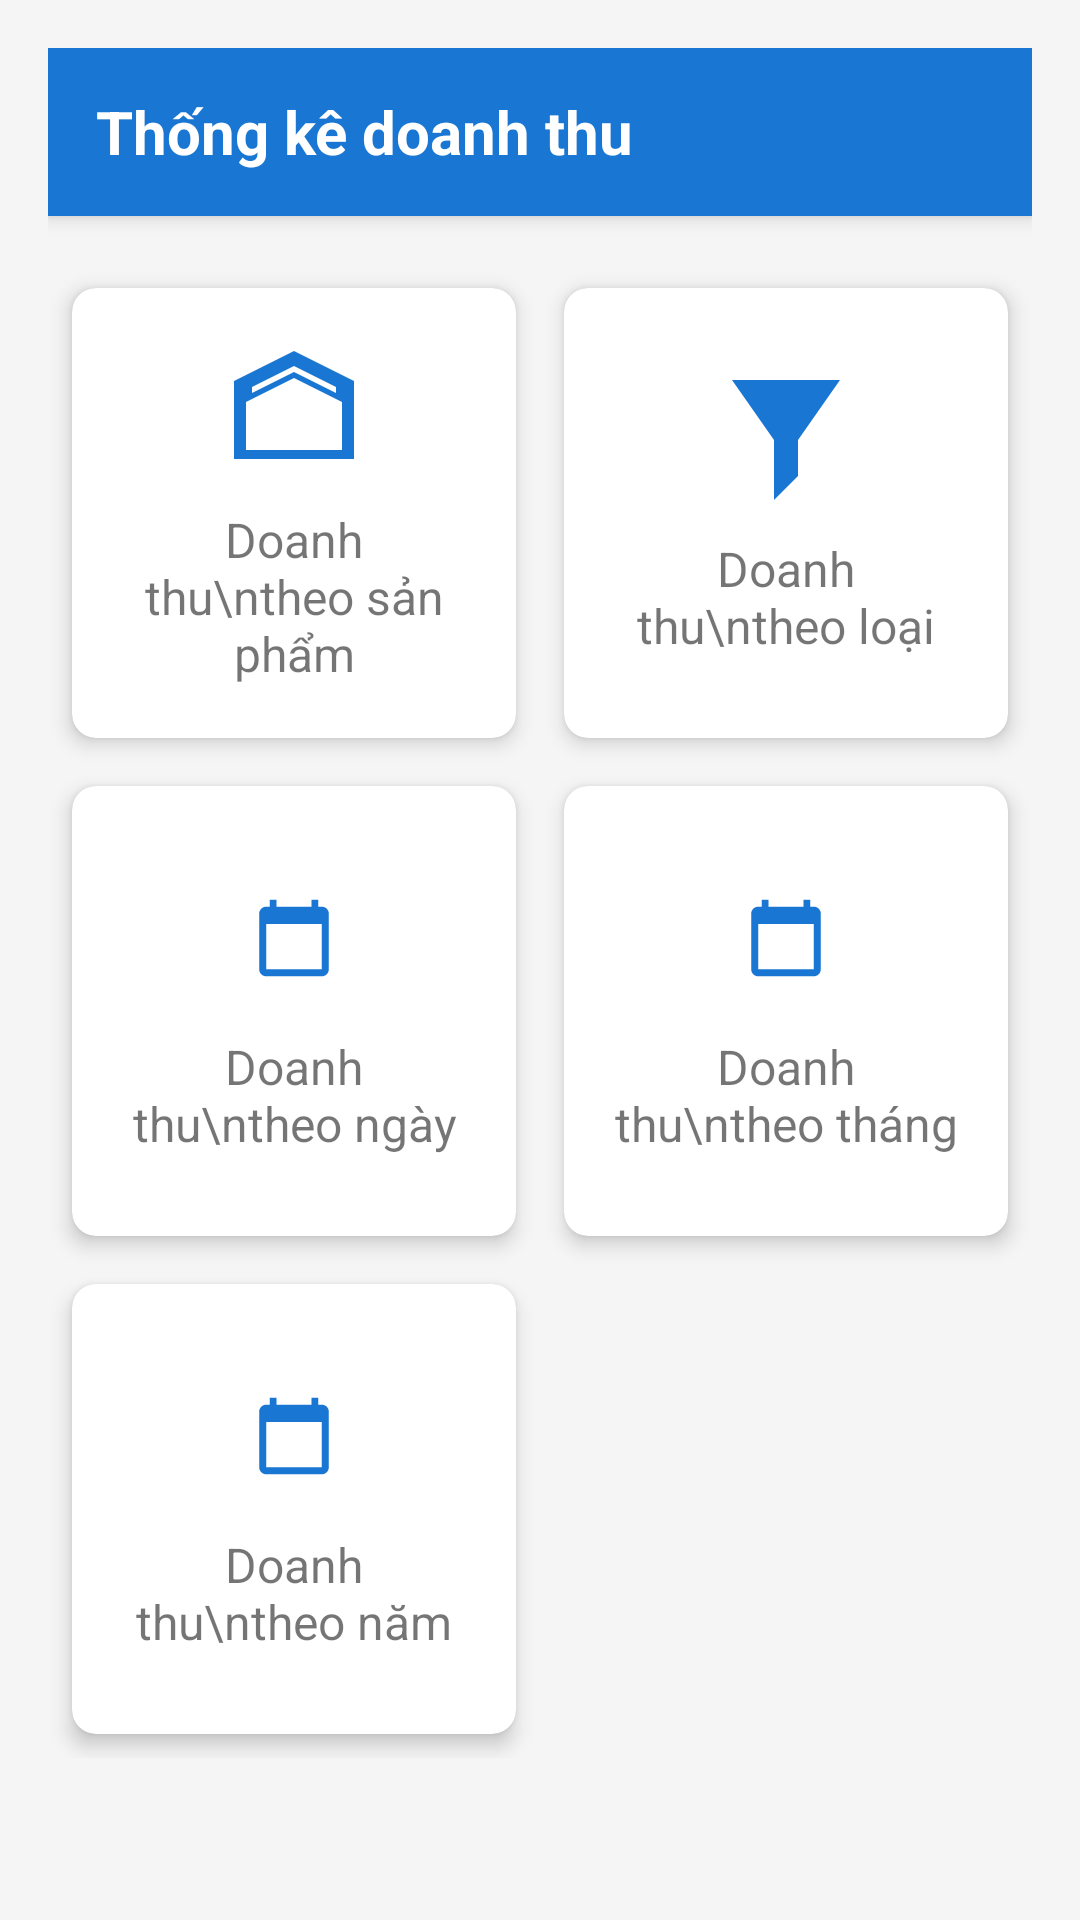

Icon click points for this 1080 x 1920 phone screenshot, format [x,y]:
calendar: [294,938], [786,938], [294,1436]
